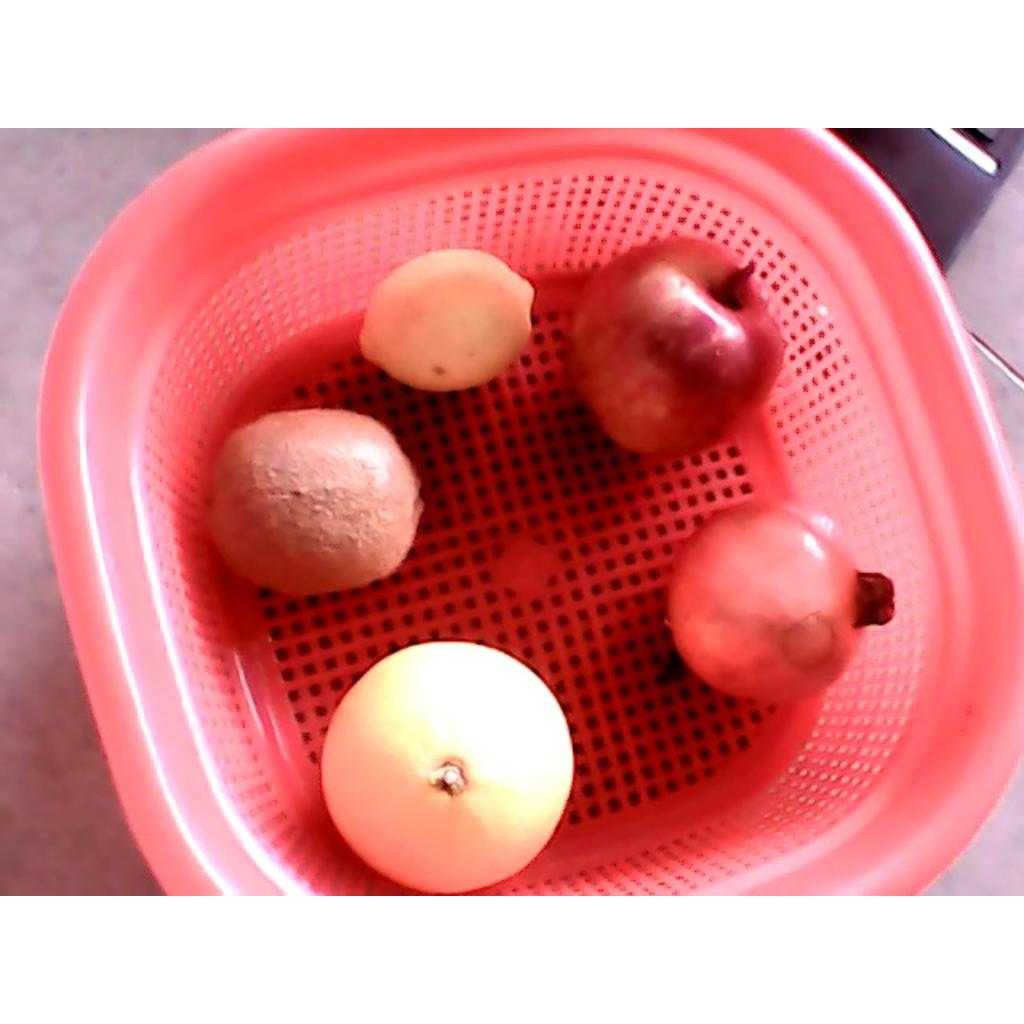apple: (564, 234, 788, 460)
kiwi: (210, 407, 425, 596)
lemon: (359, 249, 538, 392)
orange: (321, 640, 574, 894)
pomegranate: (667, 498, 896, 706)
